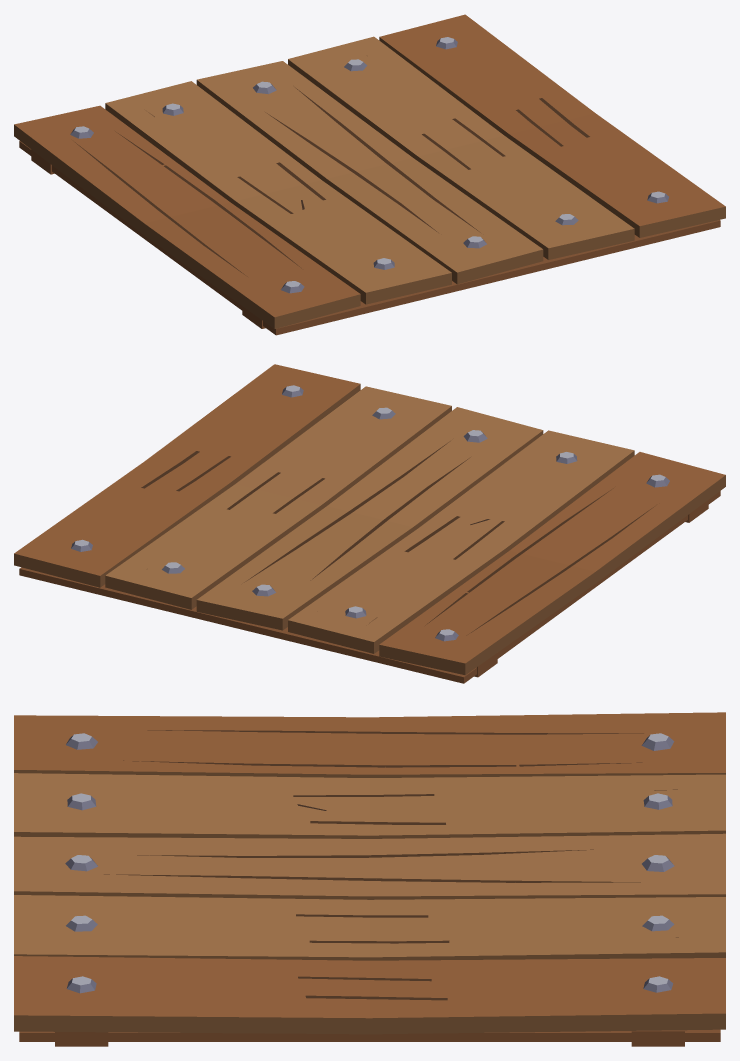
The model's file is floor_plank_crack1.glb.
3 views of the same model, one above another, from view 1: azimuth 30°, elevation 25°; view 2: azimuth 150°, elevation 25°; view 3: azimuth 270°, elevation 25° (orthographic). The views are drawn at different scales.
Visible parts, largest first — view 1: Body; view 2: Body; view 3: Body.
Part boxes in pixels (box(x1,y1,x2,y2)): Body: box(14, 14, 725, 335); Body: box(14, 364, 725, 683); Body: box(14, 712, 725, 1046).
Size of the model in its own units: 4 by 0.2411 by 4.
